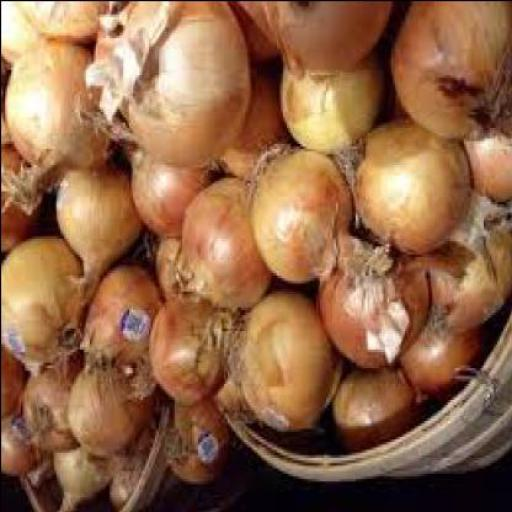biodegradable: (89, 2, 252, 175), (2, 42, 109, 221), (391, 2, 511, 149), (234, 288, 343, 436), (357, 121, 473, 257), (55, 162, 146, 328), (321, 238, 433, 369), (149, 293, 237, 457), (394, 216, 511, 338), (252, 150, 356, 286), (2, 238, 90, 369), (236, 2, 394, 74), (282, 48, 384, 158), (82, 264, 164, 380), (214, 66, 286, 184), (130, 148, 212, 242), (333, 369, 418, 457), (69, 367, 150, 459), (22, 344, 86, 456), (396, 317, 482, 396), (2, 153, 51, 259), (167, 407, 229, 488), (459, 127, 511, 218), (226, 2, 288, 72), (22, 3, 104, 50), (53, 450, 116, 511), (2, 399, 47, 475), (110, 438, 158, 507), (156, 240, 201, 306), (2, 335, 30, 422), (2, 2, 37, 69), (2, 61, 14, 151), (30, 454, 56, 489)
